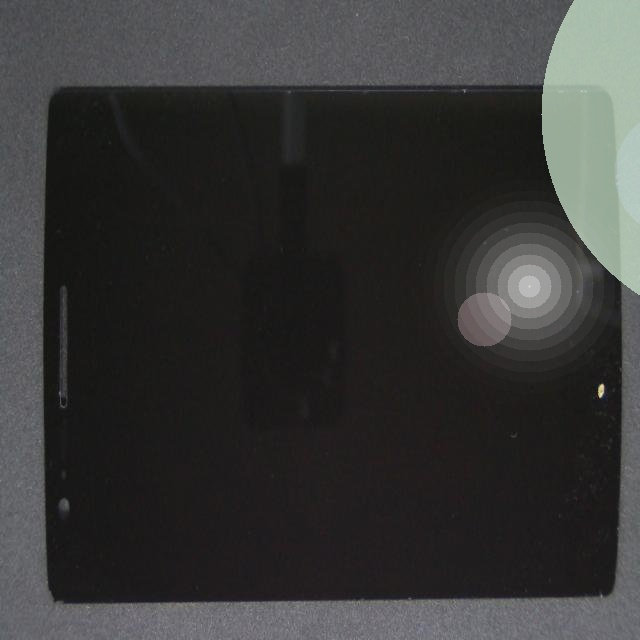stain: (307, 160, 640, 547)
